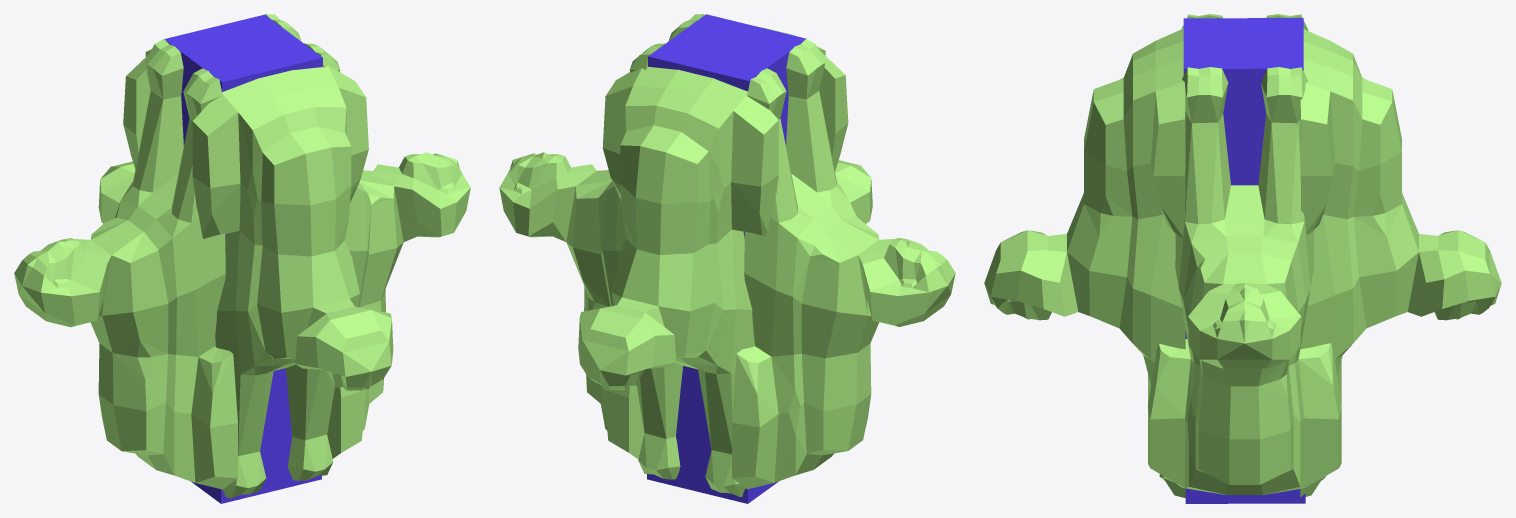
File: 044_Sphinx.fbx
3 renders of one model, left to right at view 1: azimuth 30°, elevation 25°; view 2: azimuth 150°, elevation 25°; view 3: azimuth 270°, elevation 25°, orthographic. The views are drawn at different scales.
Parts seen in each view (by area): view 1: sphinx2; view 2: sphinx2; view 3: sphinx2.
Part boxes in pixels (left/top/right/bottom): sphinx2: left=14, top=14, right=470, bottom=503; sphinx2: left=499, top=14, right=955, bottom=503; sphinx2: left=984, top=14, right=1501, bottom=503.
Bounding box in the file's own units: 109 × 100 × 108.
